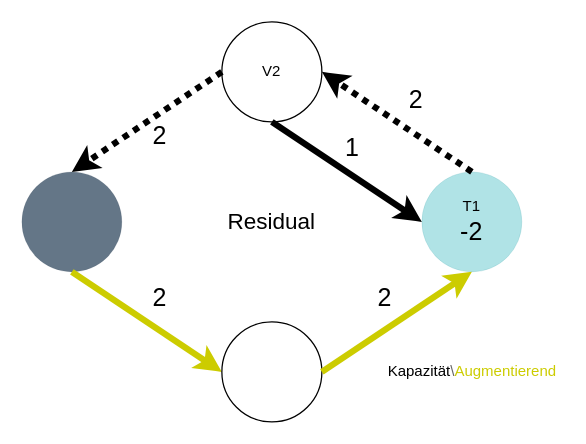
Image size: 586x444. Some labels were removed from this diagram. The shapes that lost their labels are listed below. From the top down, each one's box as (x1, y1, x2, y2) in pixels, then its label:
(21, 171, 121, 271): S1 +2
(221, 321, 322, 422): V1
